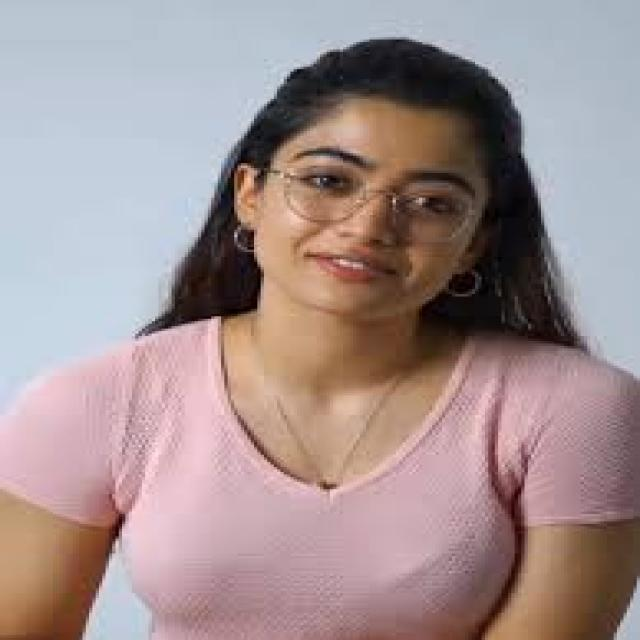specticles: (204, 140, 516, 246)
